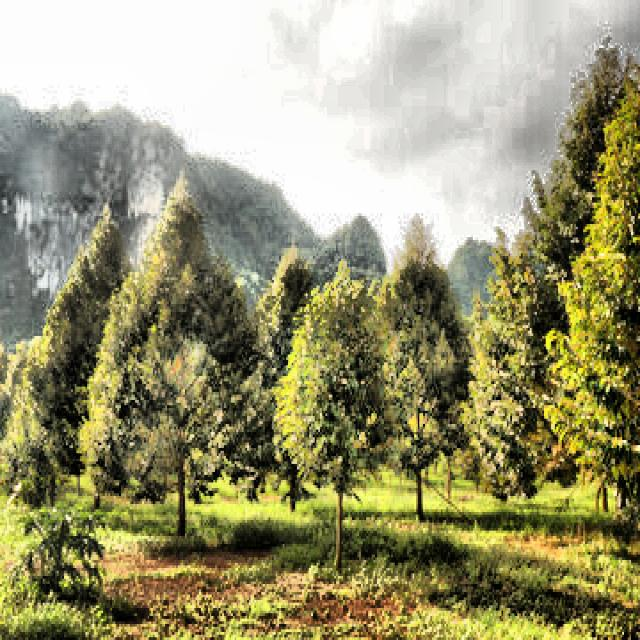arvore: (162, 367, 192, 555), (403, 383, 432, 539), (325, 435, 348, 580), (594, 421, 614, 522)
